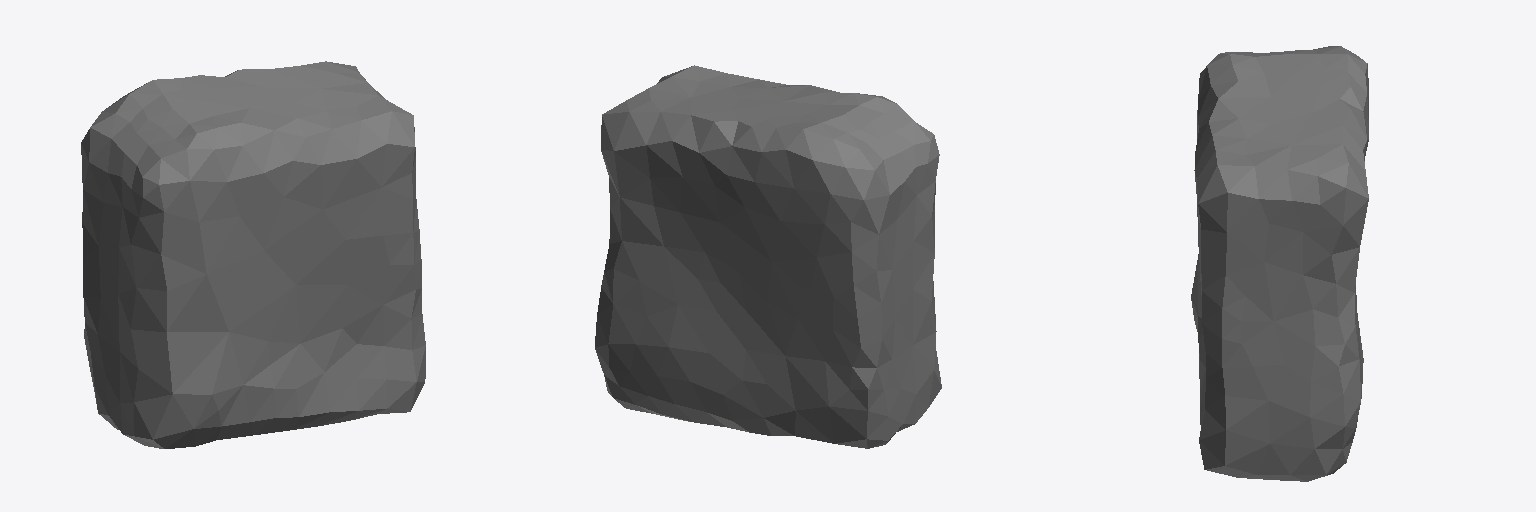
File: StonePlatform_E.obj
The picture shows the model from 3 angles: view 1: azimuth 30°, elevation 25°; view 2: azimuth 150°, elevation 25°; view 3: azimuth 270°, elevation 25°; orthographic projection.
Parts seen in each view (by area): view 1: Stone_E; view 2: Stone_E; view 3: Stone_E.
Part boxes in pixels (x1,y1,x2,y2): Stone_E: (81, 61, 425, 448); Stone_E: (595, 65, 941, 448); Stone_E: (1191, 46, 1368, 481).
Size of the model in its own units: 9.33 by 10.38 by 4.98.